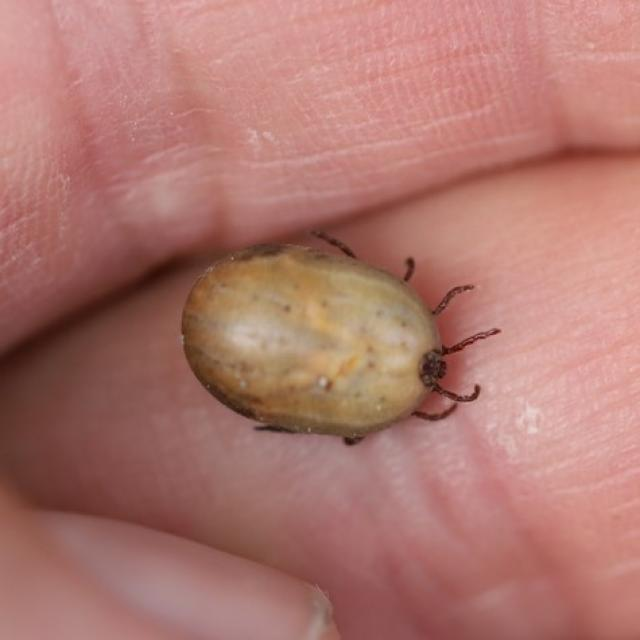Dermacentor Reticulatus-F-Fed: (182, 232, 501, 446)
